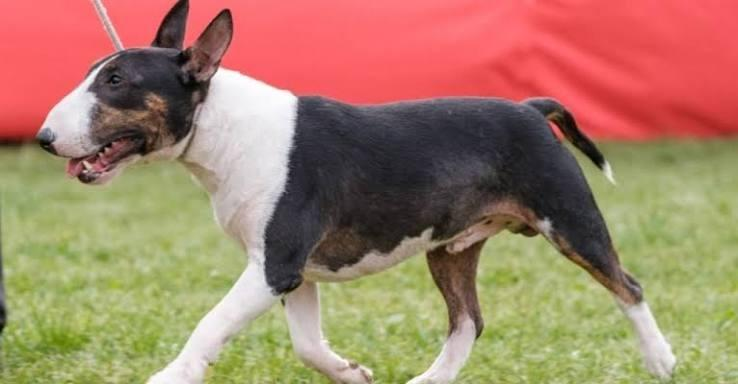adult_dog: (31, 0, 678, 384)
